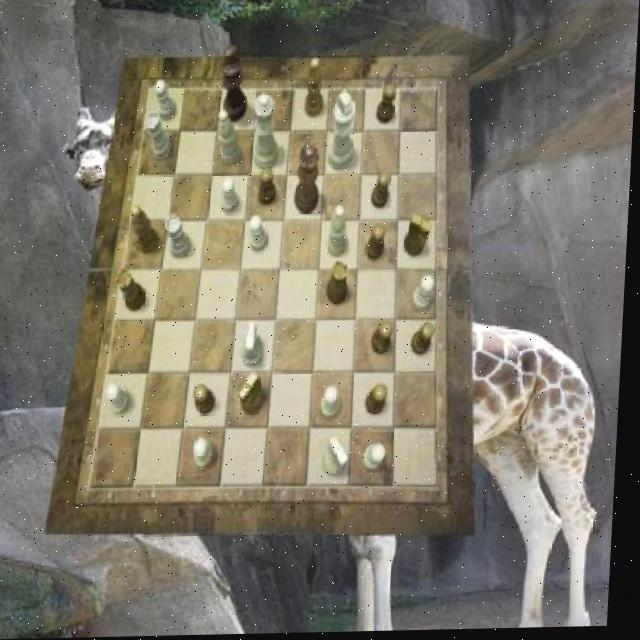bishop: (131, 207, 163, 256), (306, 60, 326, 121)
black-bishop: (219, 45, 251, 123)
black-king: (406, 215, 435, 258), (243, 372, 269, 415)
black-knight: (414, 323, 438, 357), (376, 323, 398, 358), (369, 386, 393, 418), (378, 87, 397, 127), (261, 169, 280, 207), (373, 172, 392, 210), (197, 385, 220, 416), (369, 226, 388, 262)
black-pawn: (296, 145, 322, 215)
black-queen: (118, 269, 150, 312), (330, 263, 352, 307)
black-rook: (218, 111, 244, 166), (329, 207, 351, 260)
white-bishop: (329, 92, 357, 173)
white-king: (245, 323, 269, 369), (330, 438, 356, 478)
white-knight: (155, 81, 180, 122), (109, 382, 135, 416), (415, 277, 439, 313), (251, 217, 271, 255), (326, 387, 347, 420), (223, 179, 242, 215), (198, 437, 219, 469), (368, 445, 392, 471)
white-pawn: (253, 95, 283, 171)
white-queen: (146, 112, 175, 162), (166, 215, 195, 259)
